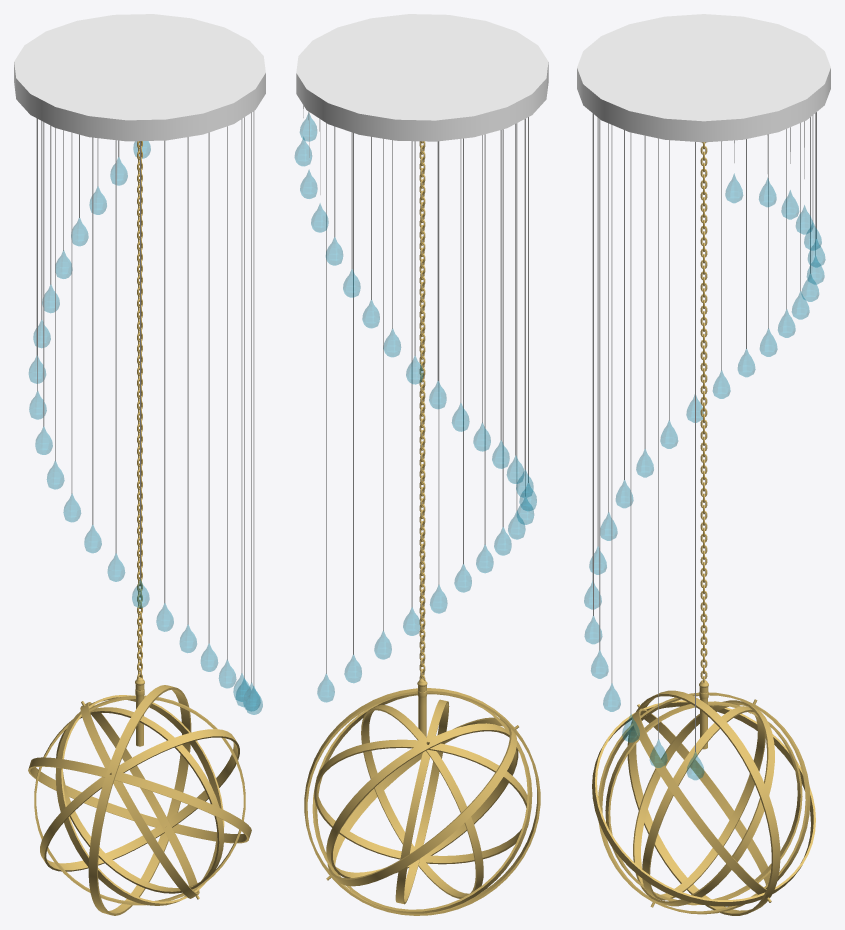
Rendered from lamp_2.glb.
The picture shows the model from 3 angles, left to right: view 1: azimuth 30°, elevation 25°; view 2: azimuth 150°, elevation 25°; view 3: azimuth 270°, elevation 25°; orthographic projection.
Parts seen in each view (by area): view 1: CeilingFasten, STRINGS, GemMash2_ReproMesh, Sweep1, Sweep2, Sweep3, Sweep4, CSweep1, CSweep3, ChainMash3, CSweep2; view 2: CeilingFasten, STRINGS, GemMash2_ReproMesh, Sweep2, CSweep1, CSweep2, Sweep4, Sweep1, ChainMash3, CSweep3, Sweep3; view 3: CeilingFasten, STRINGS, GemMash2_ReproMesh, Sweep1, Sweep3, CSweep1, CSweep2, Sweep2, ChainMash3, Sweep4, CSweep3.
Part boxes in pixels (x1,y1,x2,y2): CeilingFasten: (14, 14, 265, 141); STRINGS: (36, 111, 254, 686); GemMash2_ReproMesh: (29, 141, 262, 714); Sweep1: (88, 685, 191, 915); Sweep2: (28, 757, 251, 843); Sweep3: (40, 729, 239, 871); Sweep4: (80, 702, 199, 898); CSweep1: (55, 695, 224, 905); CSweep3: (56, 707, 224, 893); ChainMash3: (137, 141, 142, 679); CSweep2: (34, 695, 245, 905); CeilingFasten: (296, 14, 548, 141); STRINGS: (303, 105, 528, 673); GemMash2_ReproMesh: (294, 113, 536, 702); Sweep2: (327, 717, 516, 886); CSweep1: (314, 739, 528, 864); CSweep2: (361, 705, 483, 898); Sweep4: (326, 723, 518, 878); Sweep1: (304, 688, 540, 915); ChainMash3: (419, 141, 425, 680); CSweep3: (395, 699, 449, 904); Sweep3: (312, 693, 532, 913); CeilingFasten: (577, 14, 830, 142); STRINGS: (592, 112, 816, 751); GemMash2_ReproMesh: (584, 173, 825, 779); Sweep1: (627, 690, 780, 915); Sweep3: (632, 708, 770, 894); CSweep1: (633, 700, 774, 906); CSweep2: (642, 706, 765, 900); Sweep2: (592, 700, 815, 906); ChainMash3: (700, 142, 707, 682); Sweep4: (598, 692, 810, 914); CSweep3: (605, 701, 802, 905).
Size of the model in its own units: 0.0545 by 0.1996 by 0.0545.
